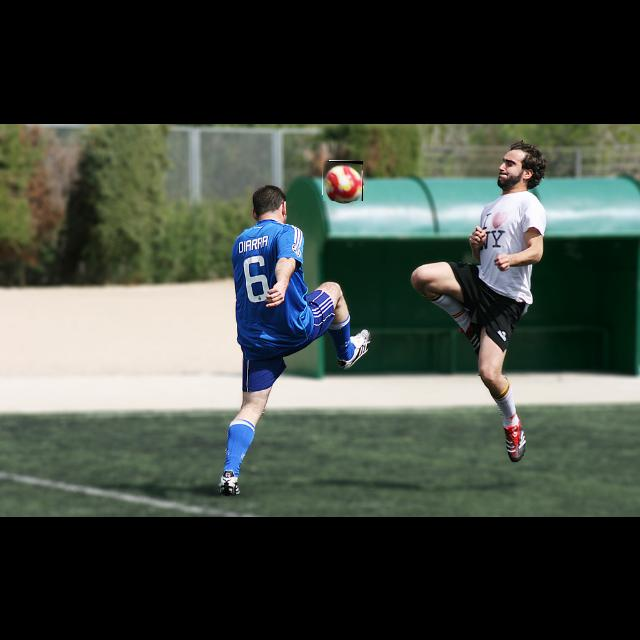Football: (323, 161, 363, 201)
